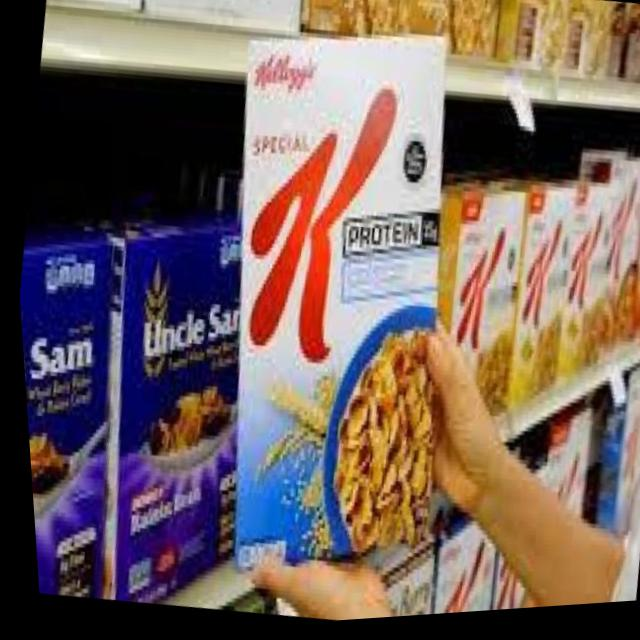Cerealbox: (161, 5, 508, 592)
